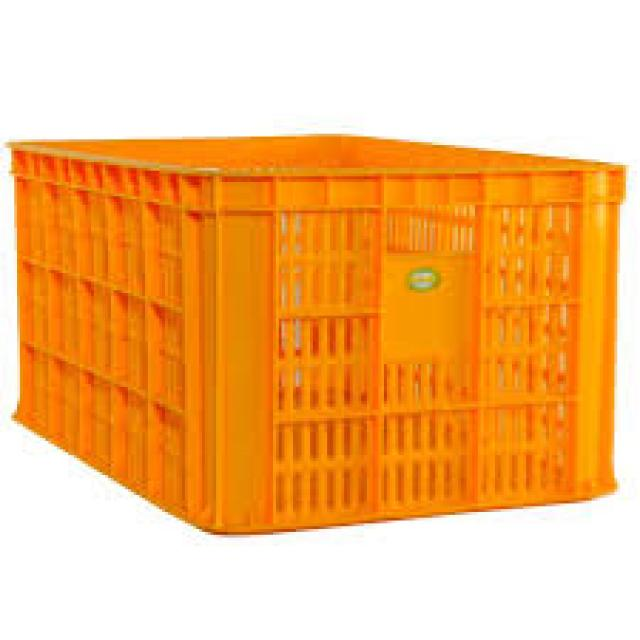basket: (8, 131, 635, 539)
